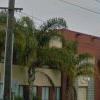Palm tree: (21, 15, 58, 100)
